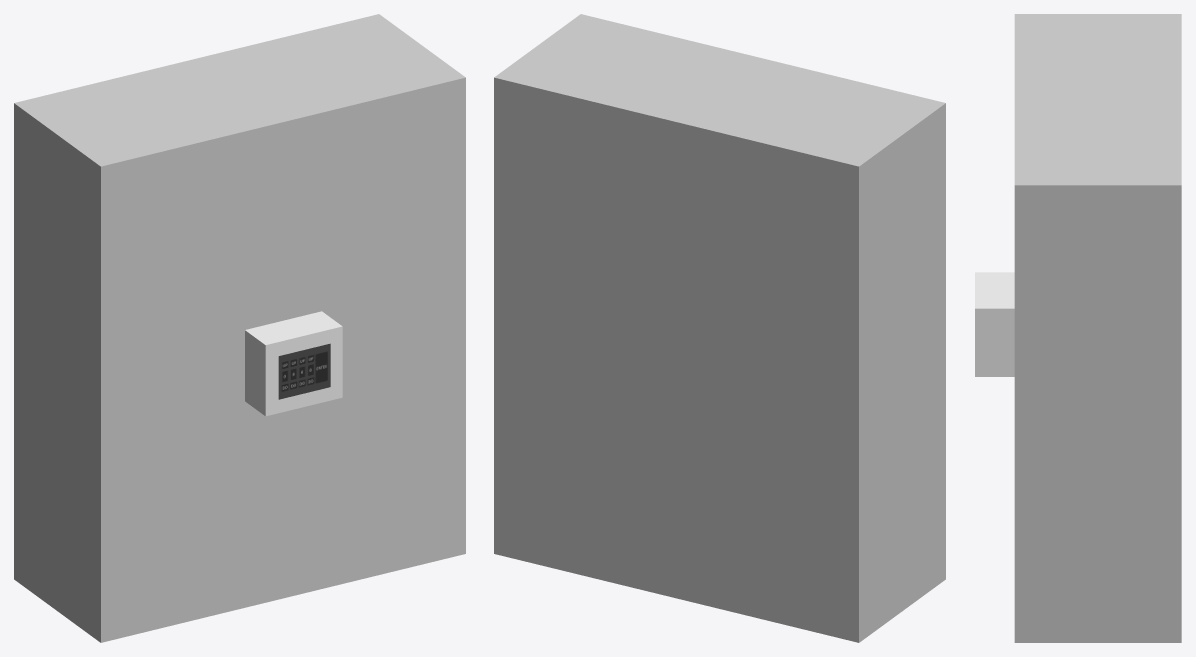
The model's file is cabinet.gltf.
3 views of the same model, side by side, from view 1: azimuth 30°, elevation 25°; view 2: azimuth 150°, elevation 25°; view 3: azimuth 270°, elevation 25° (orthographic). The views are drawn at different scales.
Visible parts, largest first — view 1: MeshInstance3D, MeshInstance3D2, MeshInstance3D3; view 2: MeshInstance3D; view 3: MeshInstance3D, MeshInstance3D2.
Part boxes in pixels (x1=…): MeshInstance3D: x1=14, y1=14, x2=465, y2=642; MeshInstance3D2: x1=245, y1=311, x2=342, y2=416; MeshInstance3D3: x1=278, y1=343, x2=330, y2=399; MeshInstance3D: x1=494, y1=14, x2=945, y2=642; MeshInstance3D: x1=1014, y1=14, x2=1181, y2=642; MeshInstance3D2: x1=975, y1=272, x2=1014, y2=376.
Size of the model in its own units: 2.46 by 3.06 by 1.26.
Materials: 3 (1 with a texture image).
